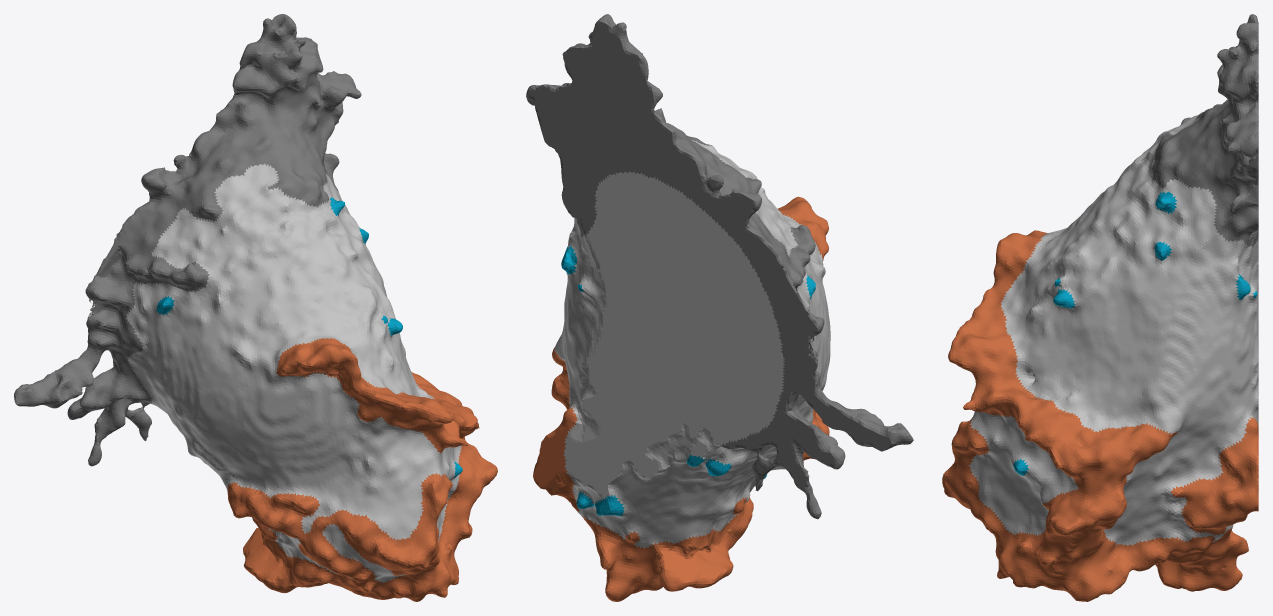
The picture shows the model from 3 angles, left to right: view 1: azimuth 30°, elevation 25°; view 2: azimuth 150°, elevation 25°; view 3: azimuth 270°, elevation 25°; orthographic projection. The views are drawn at different scales.
Size of the model in its own units: 134 by 173 by 87.34.
